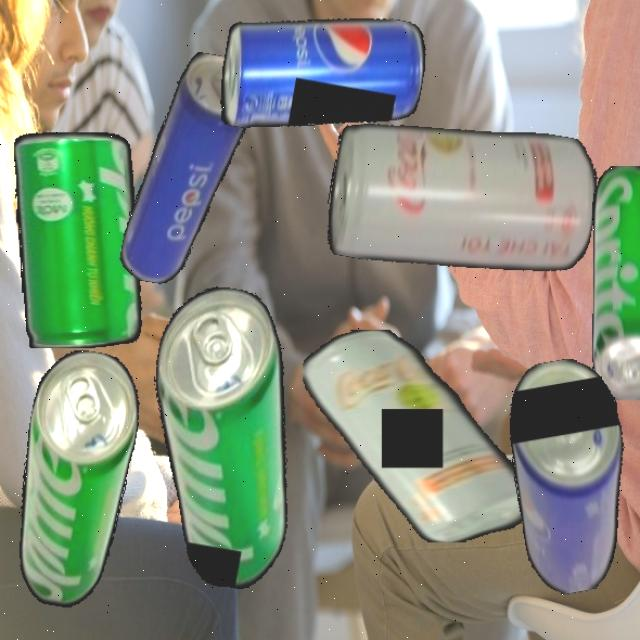debris: (120, 278, 326, 596), (319, 99, 606, 297), (302, 329, 530, 542), (0, 344, 149, 615), (117, 46, 262, 294), (495, 352, 640, 598), (214, 0, 432, 156), (14, 131, 142, 348), (591, 165, 640, 400)
